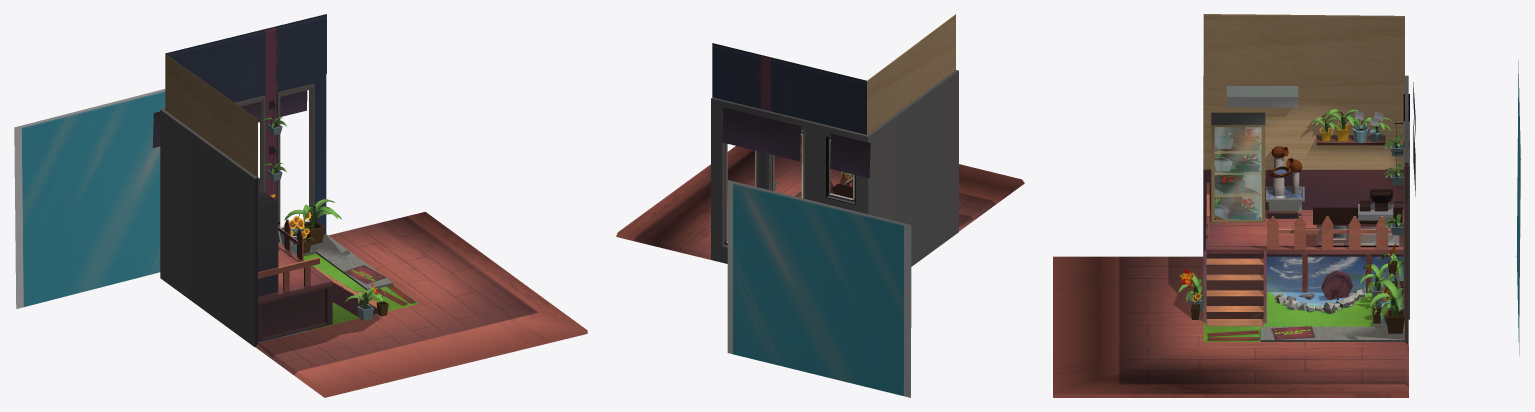
Rendered from Tx_Interior_Work_Flowerahop_20170713.fbx.
3 renders of one model, left to right at view 1: azimuth 30°, elevation 25°; view 2: azimuth 150°, elevation 25°; view 3: azimuth 270°, elevation 25°, orthographic. The views are drawn at different scales.
Parts seen in each view (by area): view 1: room_window2, Expand; view 2: room_window2, Expand; view 3: room_window2, Expand.
Boxes of the visible parts, x1,y1,x2,y2 form: room_window2: [14, 71, 418, 346]; Expand: [165, 14, 587, 397]; room_window2: [709, 70, 958, 397]; Expand: [616, 14, 1024, 259]; room_window2: [1178, 60, 1520, 355]; Expand: [1053, 14, 1408, 397].
Bounding box in the file's own units: 49.68 × 35.91 × 51.68.
